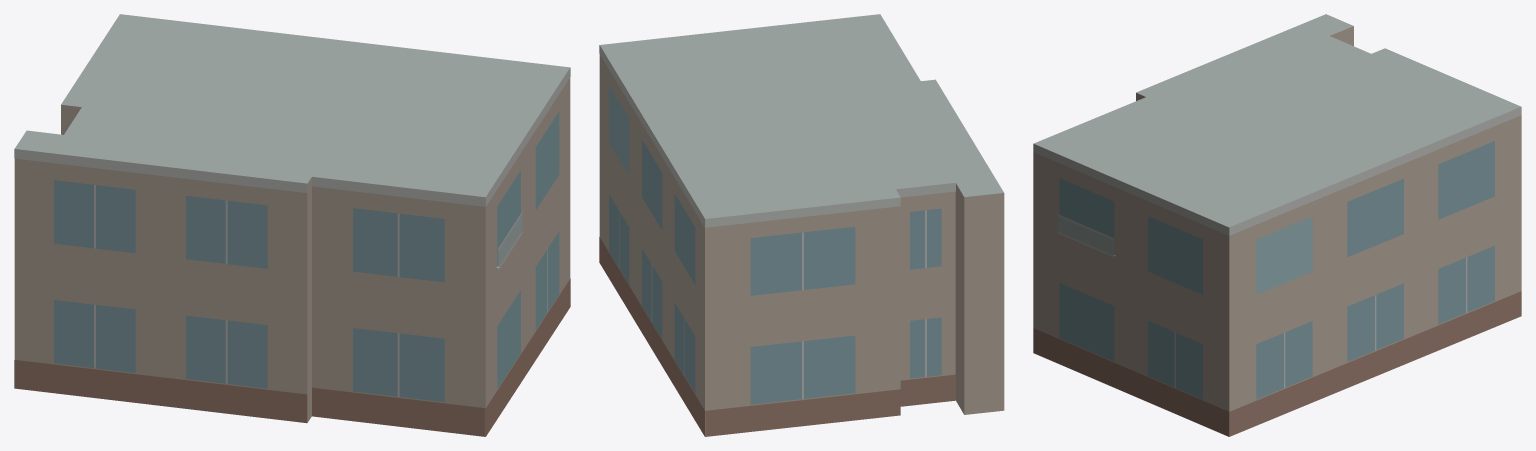
Rendered from survey-upis-32775375.glb.
3 views of the same model, side by side, from view 1: azimuth 30°, elevation 25°; view 2: azimuth 150°, elevation 25°; view 3: azimuth 270°, elevation 25° (orthographic). The views are drawn at different scales.
Visible parts, largest first — view 1: survey-upis-32775375.tmp; view 2: survey-upis-32775375.tmp; view 3: survey-upis-32775375.tmp.
Part boxes in pixels (box(x1,y1,x2,y2)): survey-upis-32775375.tmp: box(14, 14, 570, 436); survey-upis-32775375.tmp: box(599, 14, 1004, 436); survey-upis-32775375.tmp: box(1033, 14, 1521, 436).
Bounding box in the file's own units: 13.34 × 6.1 × 12.9.
